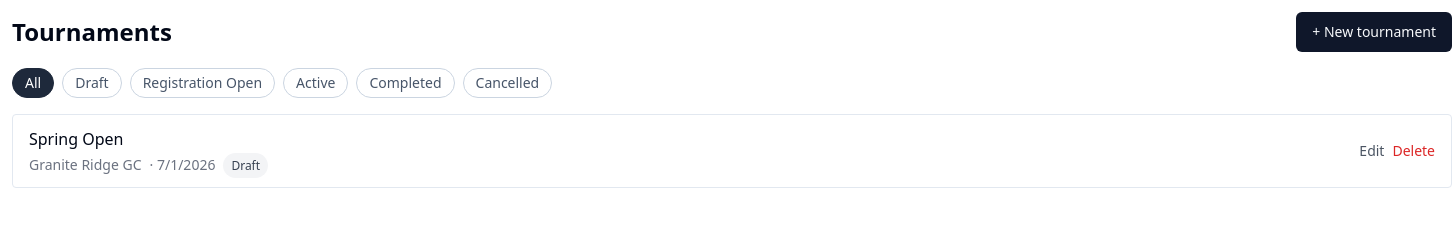
Test: TournamentListClient › hides confirm row on Cancel
Click the button "Delete". click: (1414, 151)
box: [1392, 141, 1435, 161]
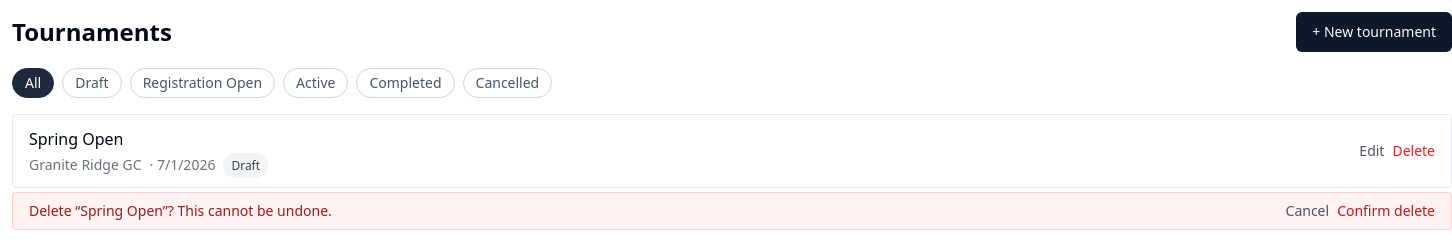
Now the text "Delete “Spring Open”? This cannot be undone." is shown, box [29, 201, 332, 221]
Click the button "Cancel". click: (1307, 211)
box: [1286, 201, 1329, 221]
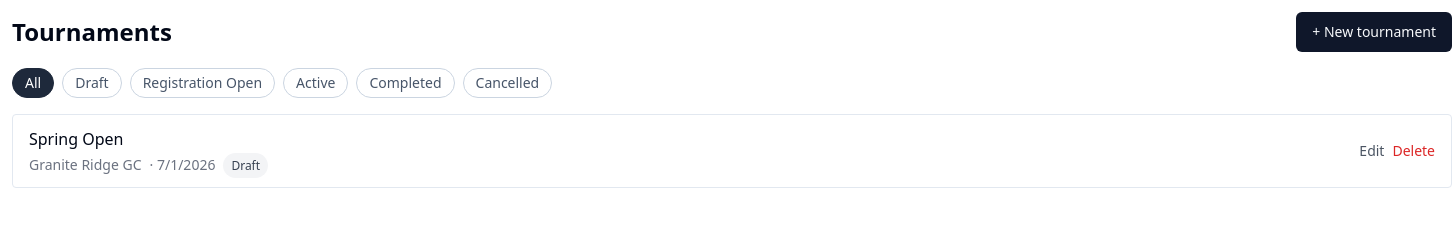
Now the text "cannot be undone" is gone
